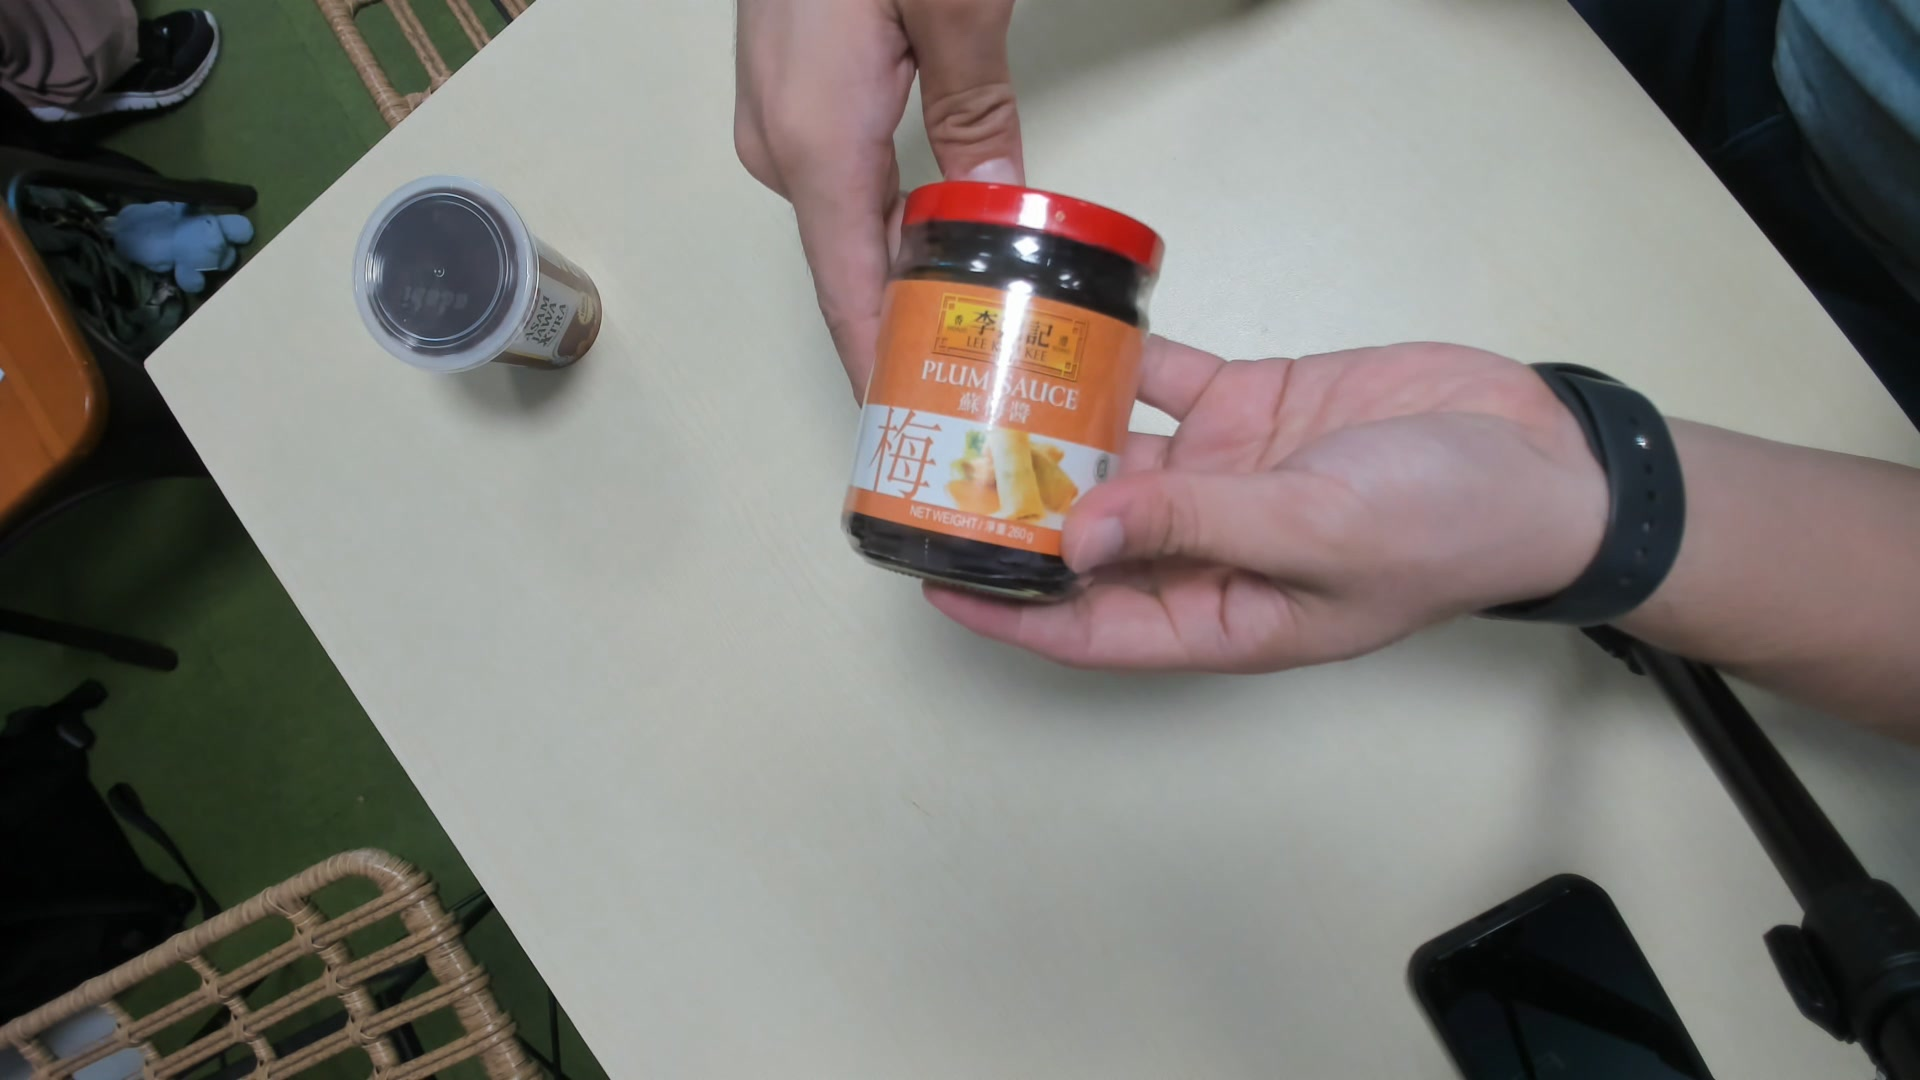OtherSauceDressing_200-299g_Halal_NonHealthy: (847, 182, 1172, 607)
